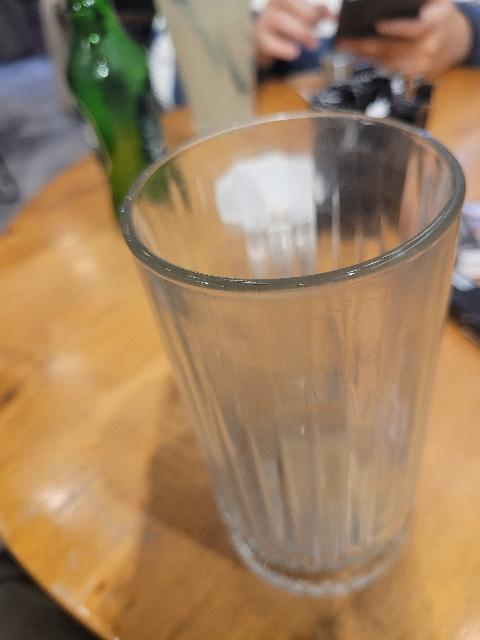Cam: (104, 109, 480, 587), (55, 2, 187, 222)
Plastik: (182, 6, 189, 7)
